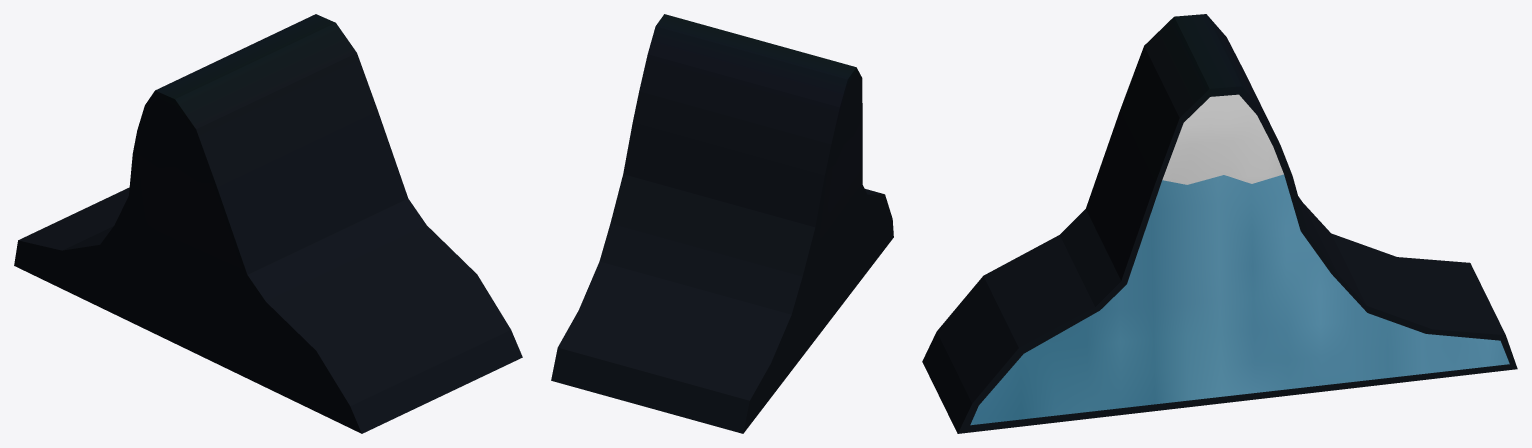
The model's file is MOUNTAIN PIN.fbx.
3 views of the same model, side by side, from view 1: azimuth 30°, elevation 25°; view 2: azimuth 150°, elevation 25°; view 3: azimuth 270°, elevation 25° (orthographic). The views are drawn at different scales.
Parts seen in each view (by area): view 1: MOUNTAIN_PIN; view 2: MOUNTAIN_PIN; view 3: MOUNTAIN_PIN.
Part boxes in pixels (box(x1,y1,x2,y2)): MOUNTAIN_PIN: box(14, 14, 522, 433); MOUNTAIN_PIN: box(551, 14, 893, 433); MOUNTAIN_PIN: box(922, 14, 1517, 433).
Bounding box in the file's own units: 4.81 × 4.87 × 8.
